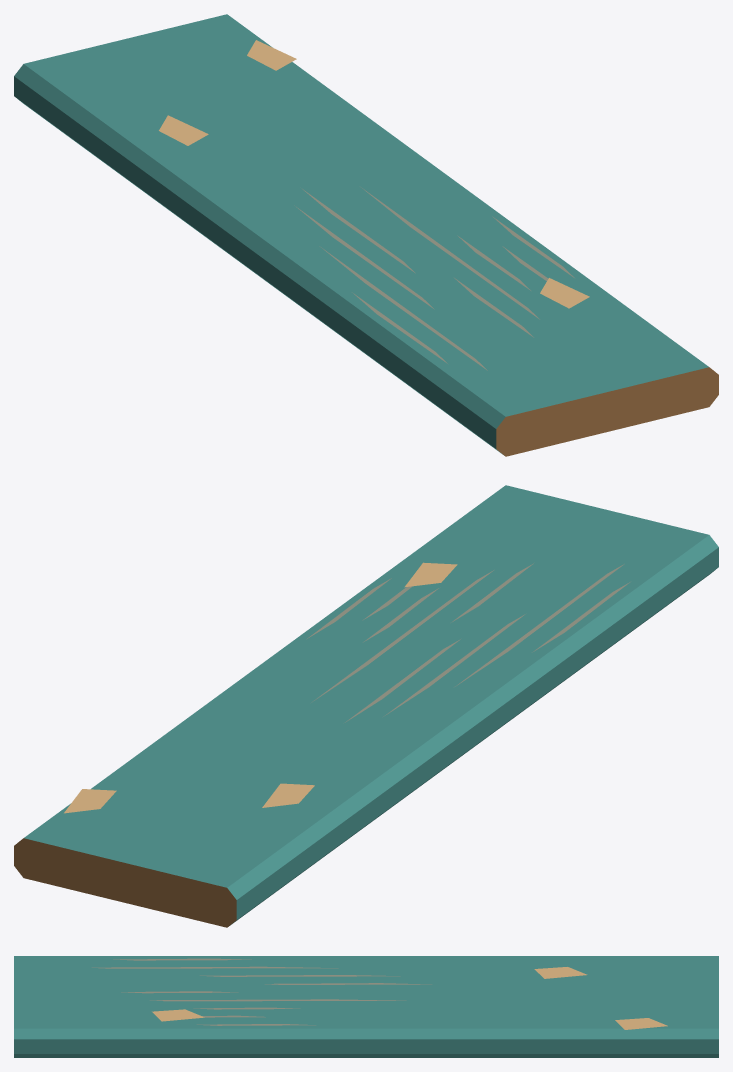
File: Plank_Painted.glb
3 renders of one model, top to bottom at view 1: azimuth 30°, elevation 25°; view 2: azimuth 150°, elevation 25°; view 3: azimuth 270°, elevation 25°, orthographic. The views are drawn at different scales.
Visible parts, largest first — view 1: Plank_Painted; view 2: Plank_Painted; view 3: Plank_Painted.
Part boxes in pixels (box(x1,y1,x2,y2)): Plank_Painted: box(14, 14, 718, 456); Plank_Painted: box(14, 485, 718, 927); Plank_Painted: box(14, 956, 718, 1057).
Bounding box in the file's own units: 0.28 × 0.049 × 1.05.
